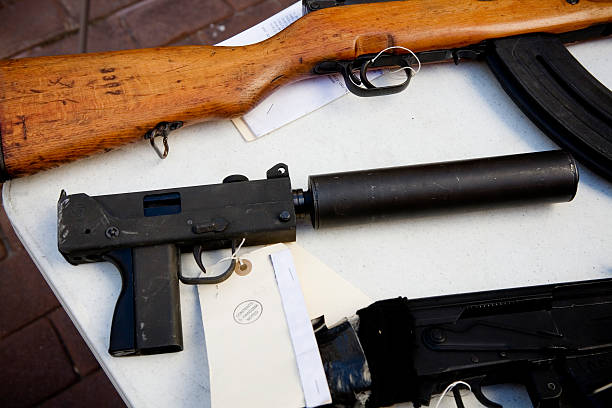pistol: (56, 164, 299, 365)
